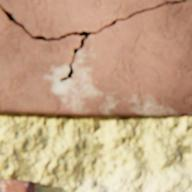brick: (0, 0, 191, 117), (0, 0, 183, 38), (0, 179, 35, 191)
crack: (0, 0, 189, 83)
